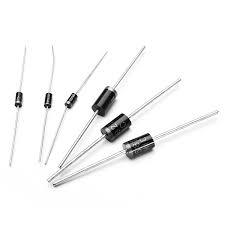diode: (120, 130, 168, 176), (98, 104, 139, 149), (84, 82, 125, 118), (5, 79, 33, 116), (58, 80, 80, 118), (38, 84, 55, 118)
